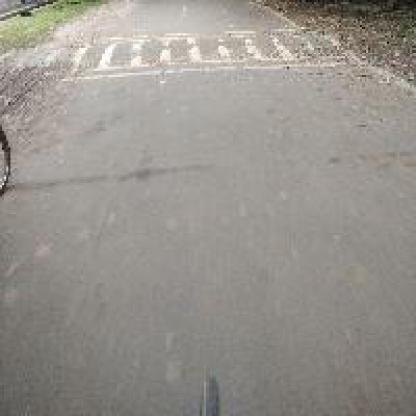Speed Bump: (60, 17, 346, 92)
